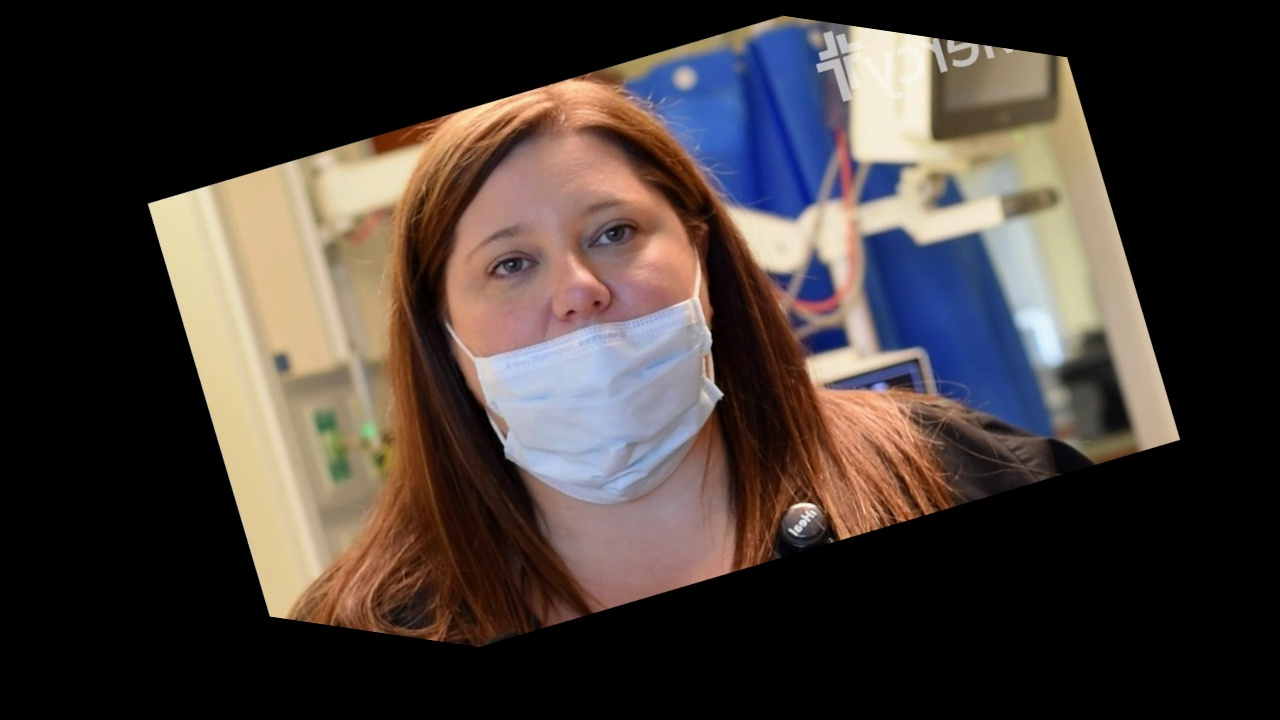mask_weared_incorrect: (402, 95, 745, 489)
